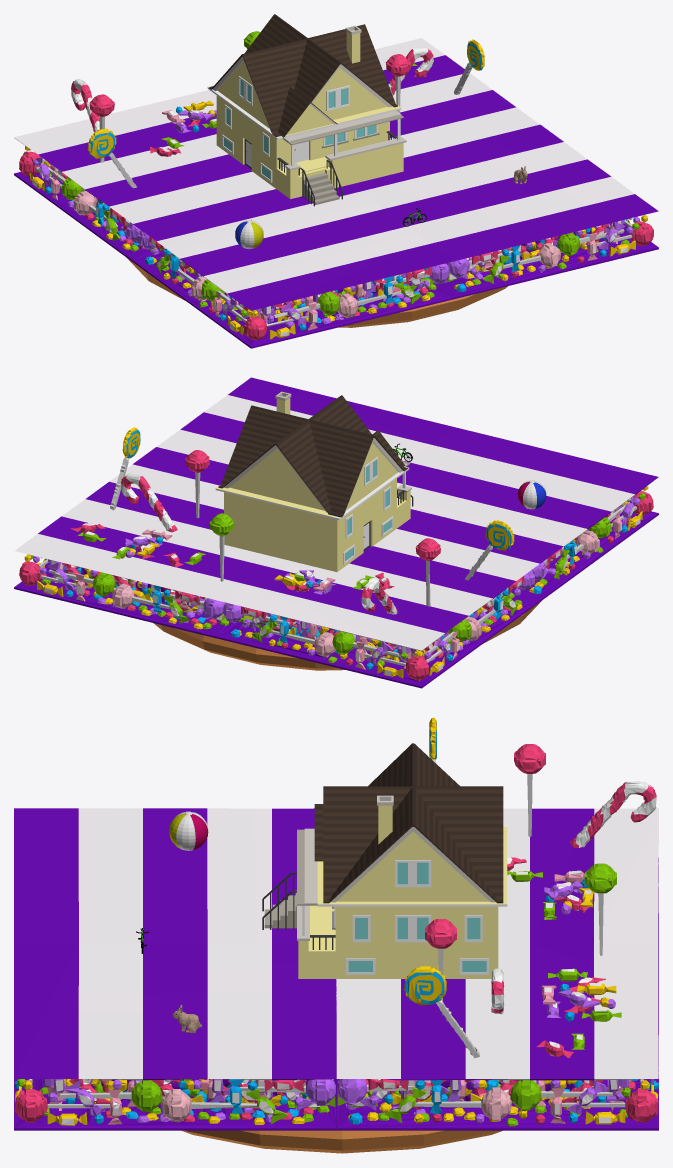
3 views of the same model, one above another, from view 1: azimuth 30°, elevation 25°; view 2: azimuth 150°, elevation 25°; view 3: azimuth 270°, elevation 25° (orthographic). The views are drawn at different scales.
Visible parts, largest first — view 1: TERRAIN_CANDY, Cube.1555, UNDERGROUND_PIZZA, OBJRANDOM_BEACHBALL; view 2: TERRAIN_CANDY, Cube.1555, UNDERGROUND_PIZZA, OBJRANDOM_BEACHBALL; view 3: TERRAIN_CANDY, Cube.1555, UNDERGROUND_PIZZA, OBJRANDOM_BEACHBALL.
Part boxes in pixels (box(x1,y1,x2,y2)): TERRAIN_CANDY: box(14, 31, 658, 348); Cube.1555: box(207, 14, 406, 206); UNDERGROUND_PIZZA: box(127, 258, 507, 327); OBJRANDOM_BEACHBALL: box(235, 220, 263, 249); TERRAIN_CANDY: box(14, 377, 658, 688); Cube.1555: box(215, 391, 413, 571); UNDERGROUND_PIZZA: box(153, 601, 541, 670); OBJRANDOM_BEACHBALL: box(517, 480, 546, 509); TERRAIN_CANDY: box(14, 717, 658, 1130); Cube.1555: box(262, 743, 507, 978); UNDERGROUND_PIZZA: box(181, 1130, 502, 1153); OBJRANDOM_BEACHBALL: box(169, 811, 208, 850).
Size of the model in its own units: 4059 by 1794 by 4000.
35 materials, 2 textured.
